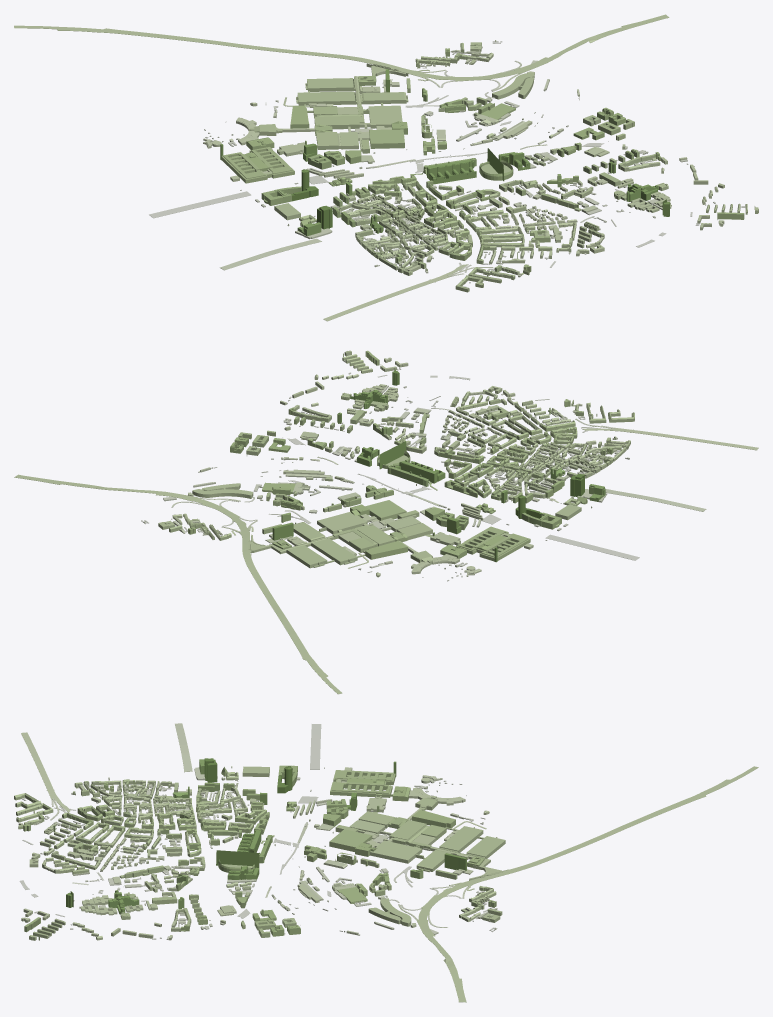
Rendered from deutz.glb.
The picture shows the model from 3 angles, top to bottom: view 1: azimuth 30°, elevation 25°; view 2: azimuth 150°, elevation 25°; view 3: azimuth 270°, elevation 25°; orthographic projection. The views are drawn at different scales.
Size of the model in its own units: 2805 by 105 by 3164.
